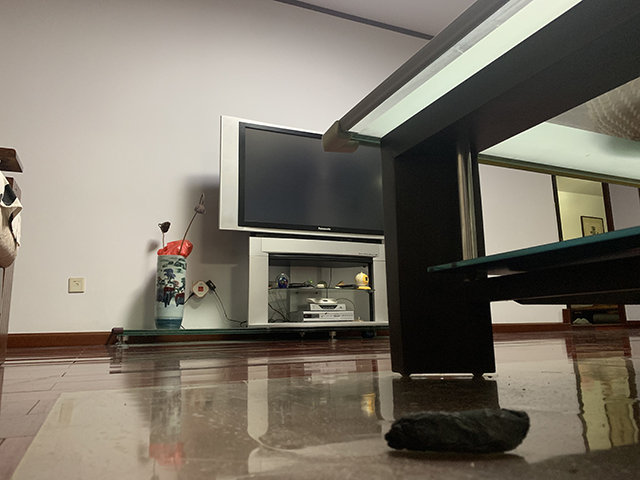cabinet: (107, 235, 388, 347)
feces: (383, 404, 531, 457)
table: (321, 1, 640, 380)
